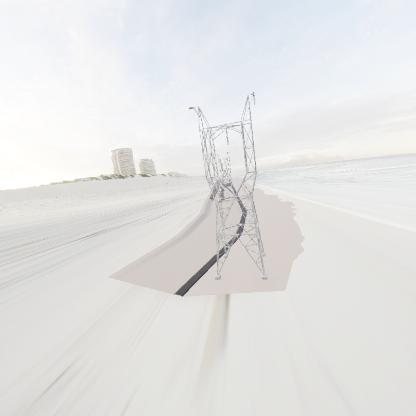tower: (182, 88, 271, 289)
